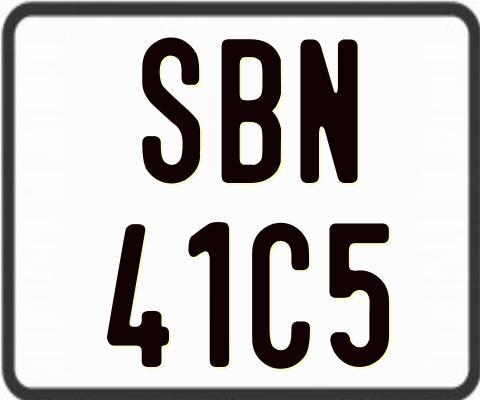1: (188, 220, 230, 367)
4: (106, 223, 173, 366)
5: (327, 221, 387, 367)
B: (221, 39, 281, 186)
C: (252, 222, 316, 373)
N: (299, 38, 362, 183)
S: (141, 34, 203, 182)
